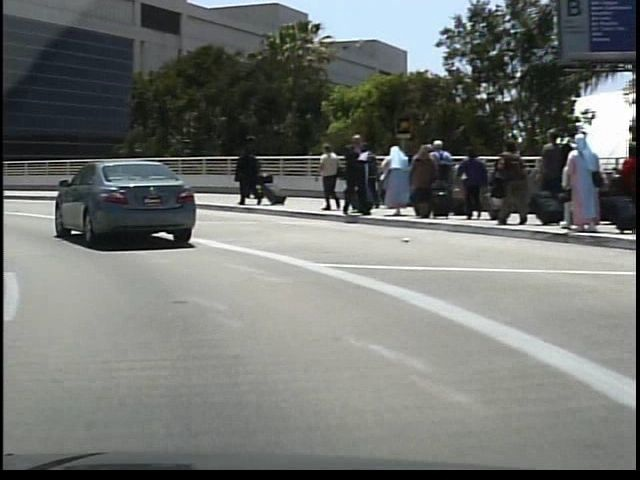person: (336, 132, 369, 219), (313, 140, 339, 216), (229, 144, 259, 207), (239, 153, 259, 201)
